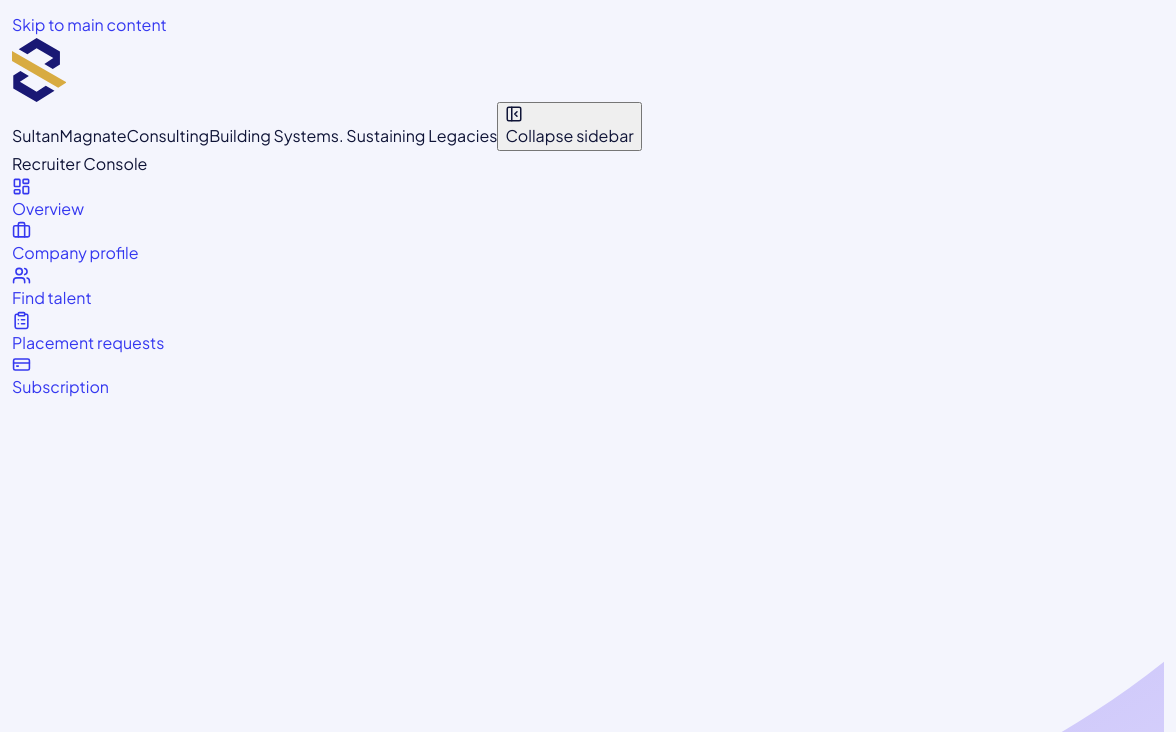
PortalLayout — collapsible sidebar › expands again on a second click
Click the button "Collapse sidebar".
click(570, 126)  # box [498,102,642,151]
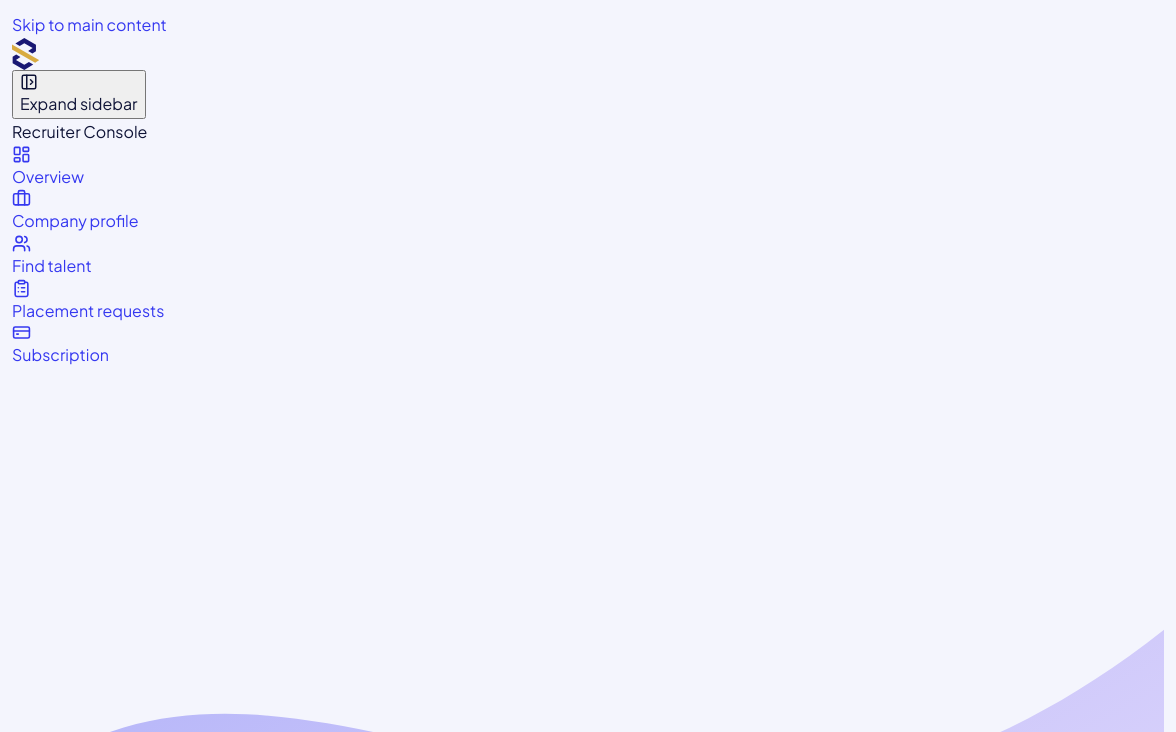
Click the button "Expand sidebar".
click(79, 94)  # box [12,70,146,119]
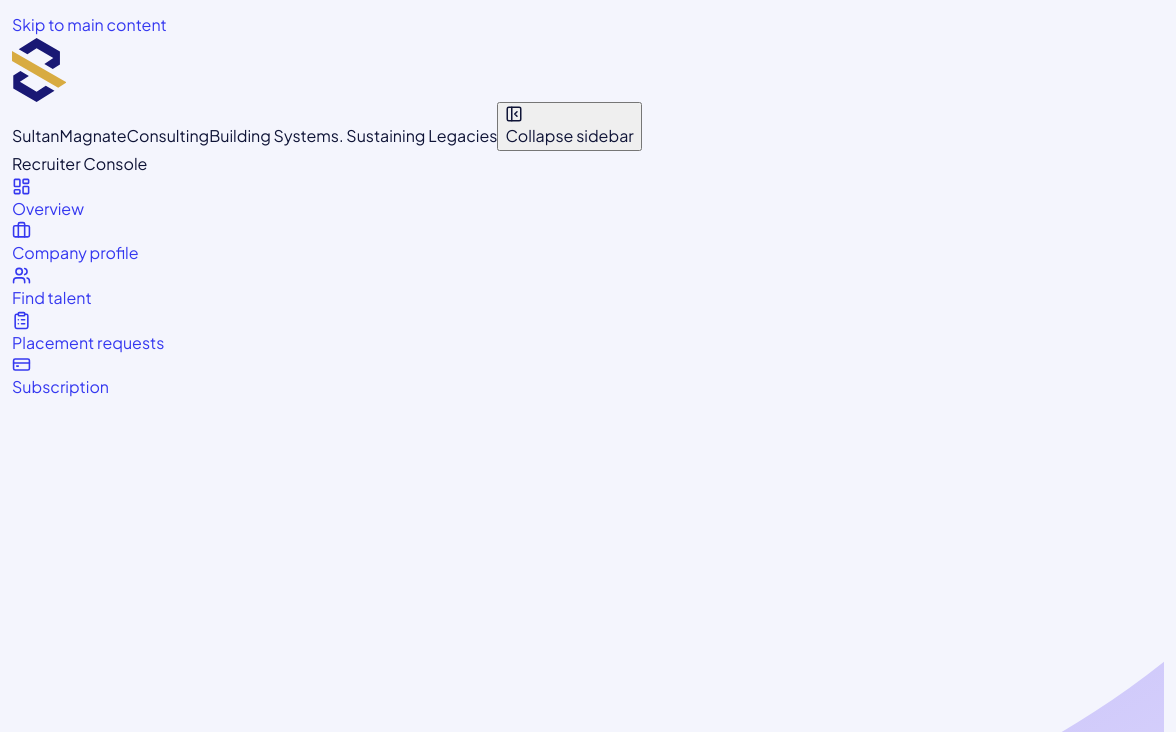
Expected: the button "Collapse sidebar" is shown, [498,102,642,151]
